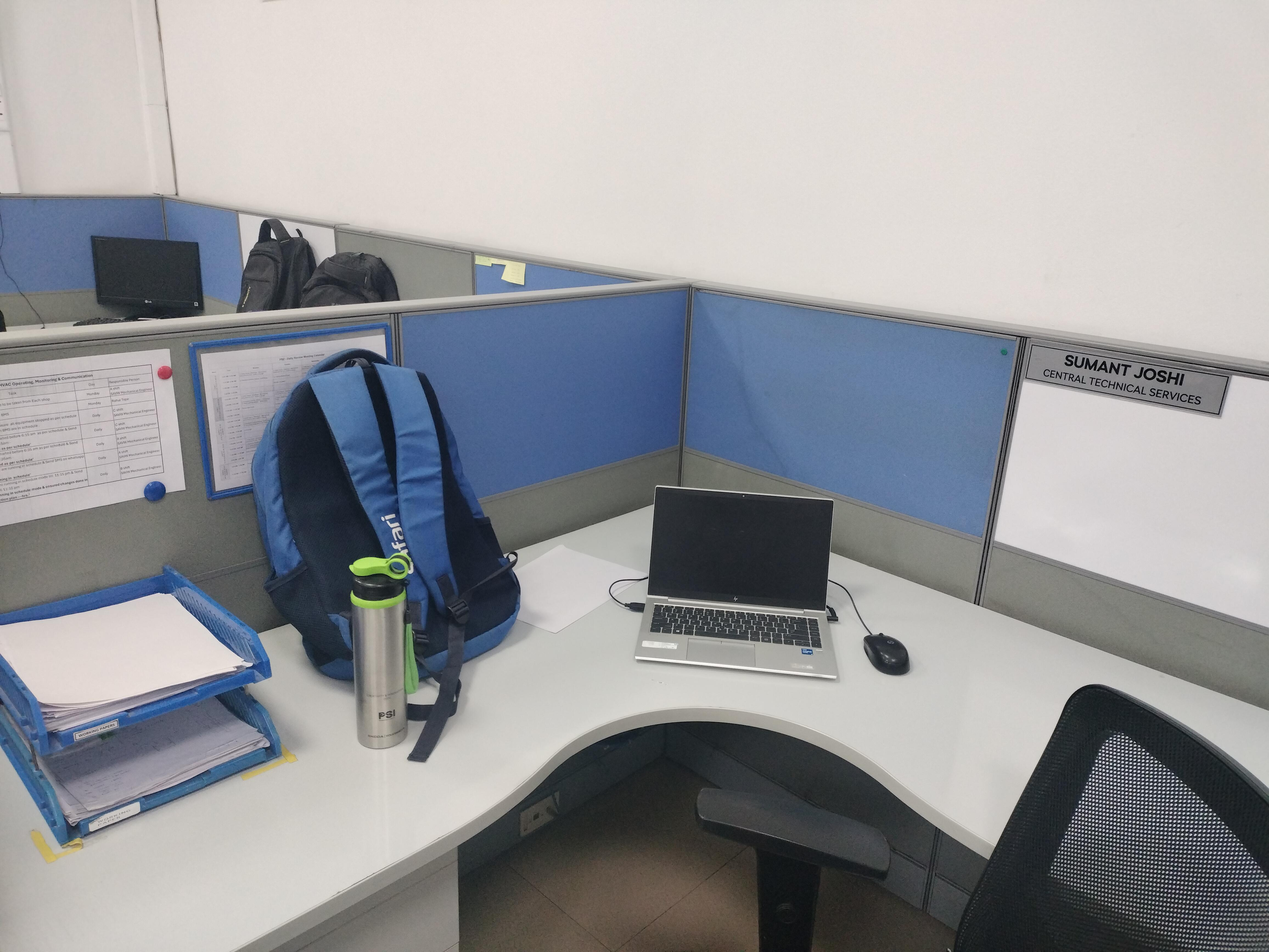bag: (248, 346, 521, 765)
bottle: (346, 553, 420, 749)
calender: (185, 320, 394, 502)
filetray: (0, 564, 284, 846)
laptop: (631, 484, 839, 681)
mouse: (861, 630, 911, 676)
nameplate: (1019, 338, 1235, 419)
page: (0, 592, 252, 735), (0, 348, 187, 526), (38, 698, 272, 827), (513, 543, 647, 637)
